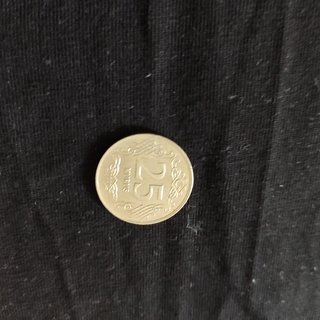25KURUS: (93, 130, 195, 227)
